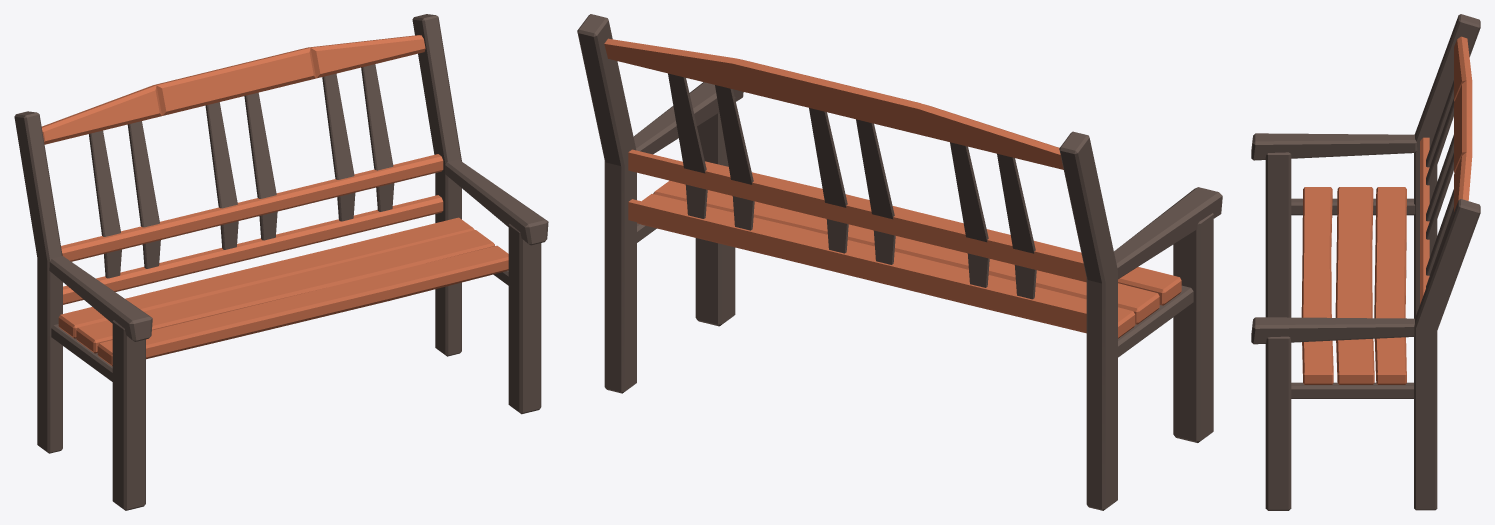
The model's file is bench_b001.glb.
3 renders of one model, left to right at view 1: azimuth 30°, elevation 25°; view 2: azimuth 150°, elevation 25°; view 3: azimuth 270°, elevation 25°, orthographic. The views are drawn at different scales.
Visible parts, largest first — view 1: bench_b001; view 2: bench_b001; view 3: bench_b001.
Part boxes in pixels (x1,y1,x2,y2): bench_b001: (14,14,548,510); bench_b001: (577,14,1222,510); bench_b001: (1251,14,1480,510).
Bounding box in the file's own units: 1.38 × 1.01 × 0.6873.
1 material, 1 textured.
